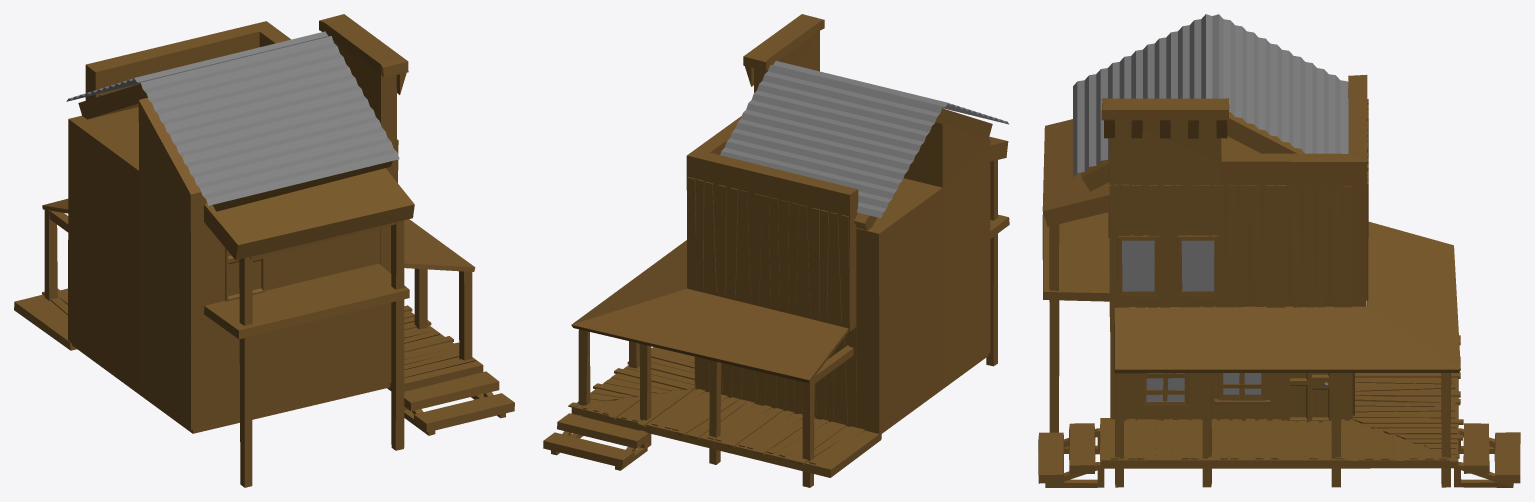
File: casa1 2.fbx
3 views of the same model, side by side, from view 1: azimuth 30°, elevation 25°; view 2: azimuth 150°, elevation 25°; view 3: azimuth 270°, elevation 25° (orthographic). The views are drawn at different scales.
Parts seen in each view (by area): view 1: estermo, interno; view 2: estermo, interno, estermo.001; view 3: estermo, interno, estermo.001.
Part boxes in pixels (x1,y1,x2,y2): estermo: [42, 14, 475, 487]; interno: [14, 288, 514, 435]; estermo: [571, 14, 1009, 487]; interno: [543, 347, 988, 477]; estermo.001: [694, 356, 709, 390]; estermo: [1042, 14, 1460, 487]; interno: [1038, 335, 1520, 487]; estermo.001: [1109, 311, 1354, 422].
Bounding box in the file's own units: 290 × 341 × 420.
